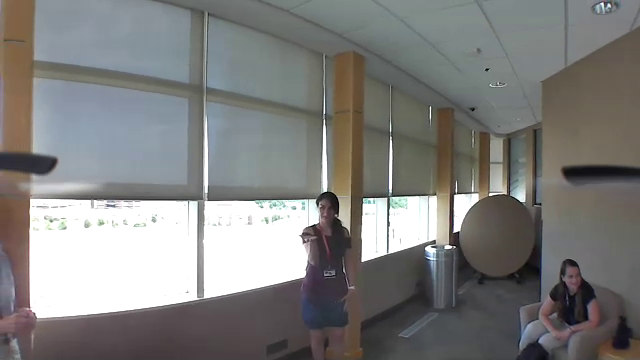land: (293, 231, 323, 249)
